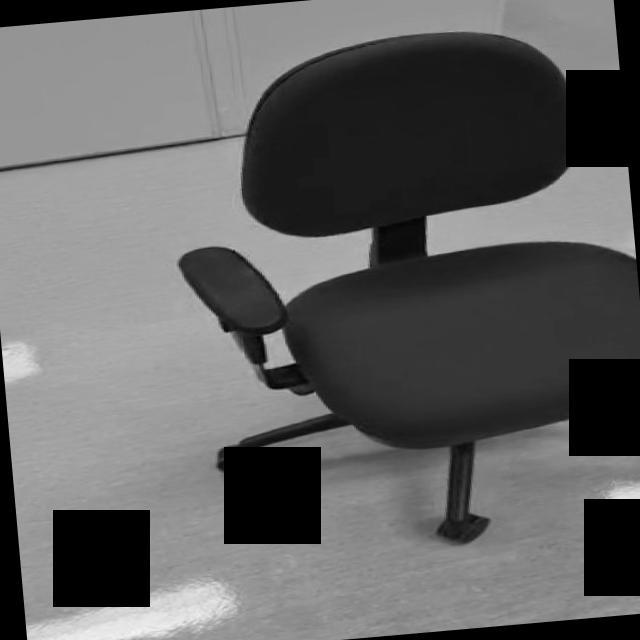chair: (160, 16, 640, 564)
